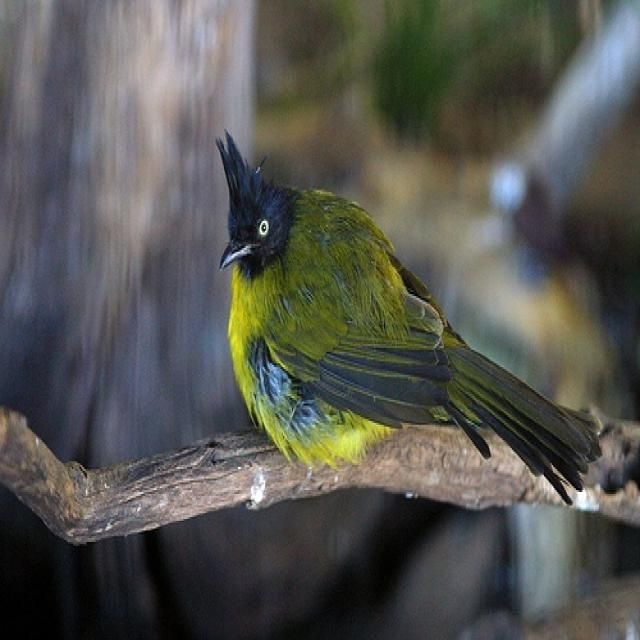bird: (211, 127, 603, 509)
